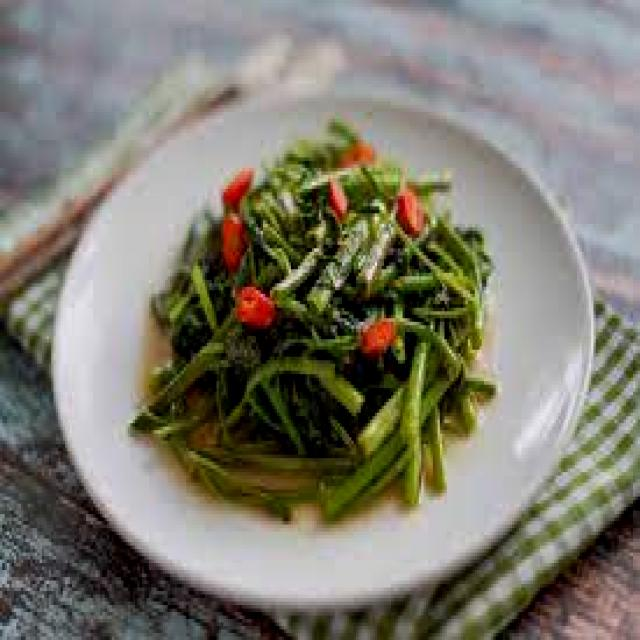tumis kangkung: (146, 148, 514, 530)
